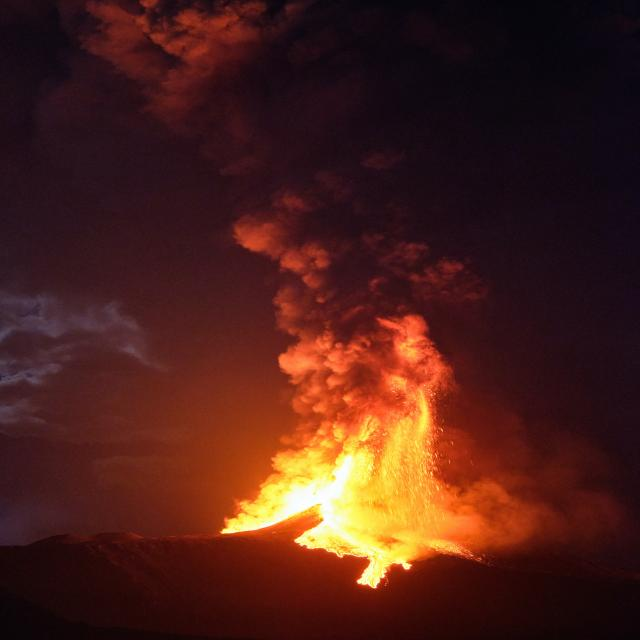fire: (201, 363, 481, 587)
